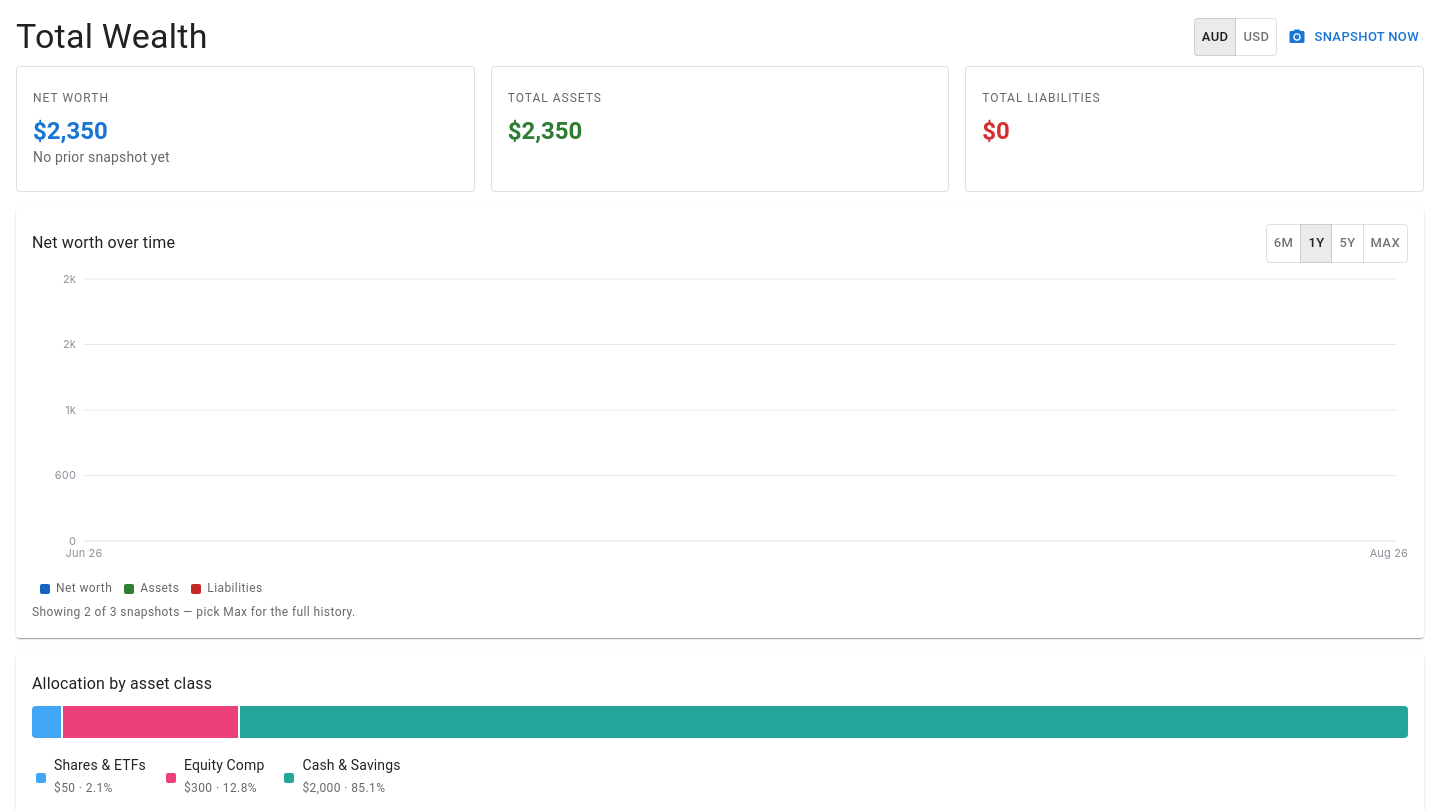
Test: net worth chart defaults to 1Y and says when it is hiding history
expect the text "Showing 2 of 3 snapshots — pick Max for the full history." is shown: met, box [32,605,356,619]
Widening to Max brings the older point back and drops the notice.
Click the button "Max" at (1385, 243), box [1362,224,1408,263]
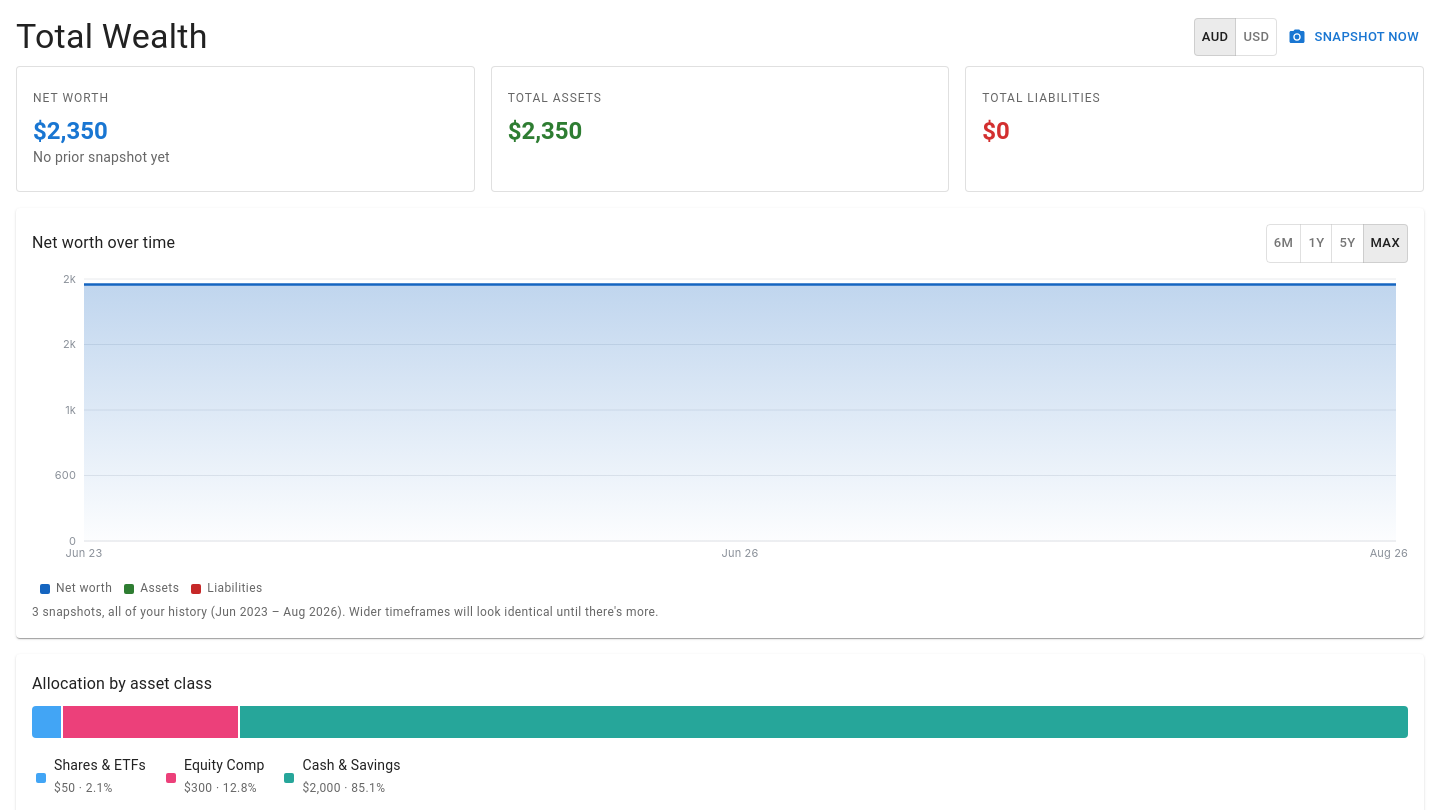
expect the text "Showing 2 of 3 snapshots" is gone: met
